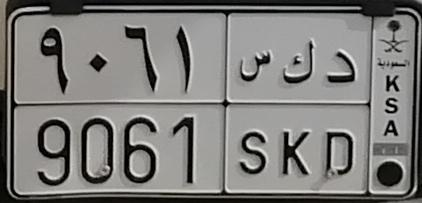0: (79, 51, 116, 184)
1: (170, 24, 198, 185)
6: (121, 24, 161, 184)
9: (35, 24, 73, 187)
D: (325, 49, 358, 179)
K: (280, 37, 316, 179)
S: (237, 49, 272, 176)
